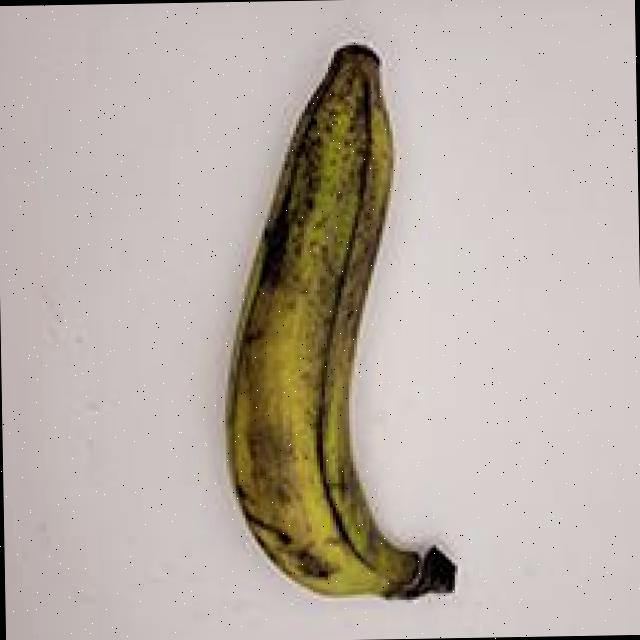Overripe: (149, 12, 507, 624)
